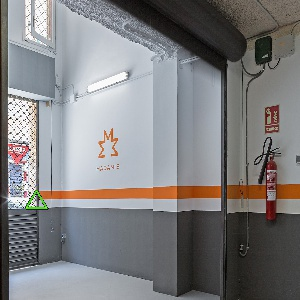triangle: (22, 190, 53, 212)
